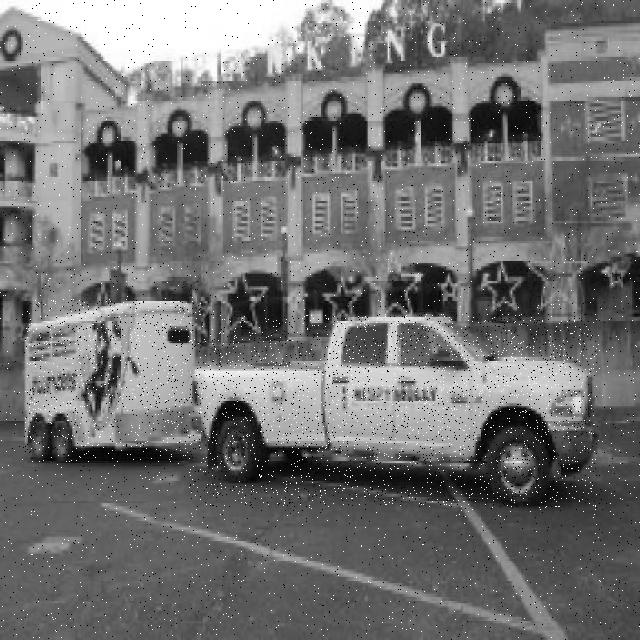Box Truck: (24, 299, 201, 462)
Pickup: (189, 314, 597, 507)
